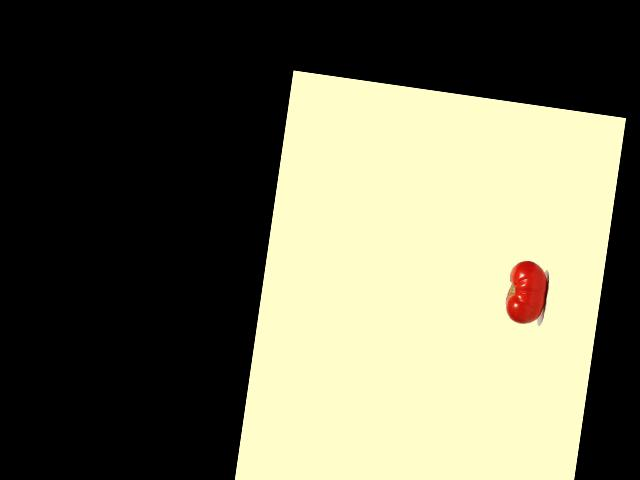tomato: (503, 258, 550, 326)
